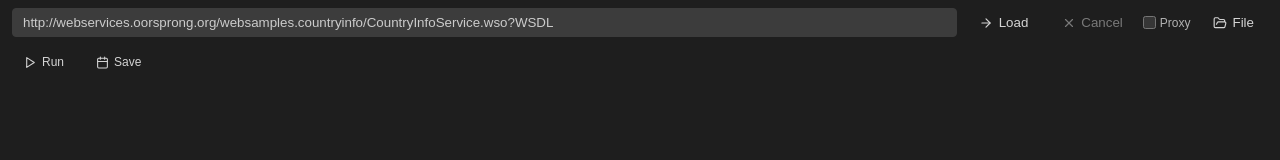
UnifiedExplorerMain history write (F-13 / R-08, phase 2 SOAP path) › a failed SOAP execute does NOT write history (legacy parity: history is written from the resolved response only)
The image size is (1280, 160).
Click the button "Run". click: (44, 62)
box: x1=12 y1=51 x2=76 y2=73
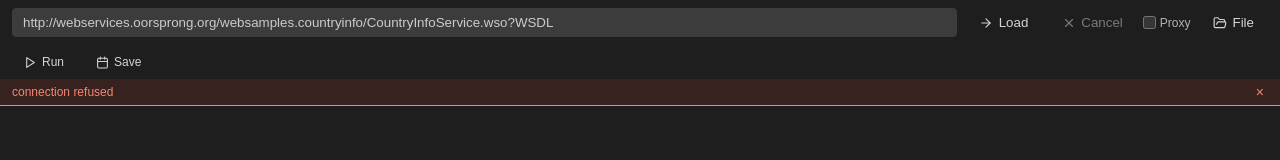
Expected: the message "connection refused ×" is shown, x1=0 y1=79 x2=1279 y2=106
